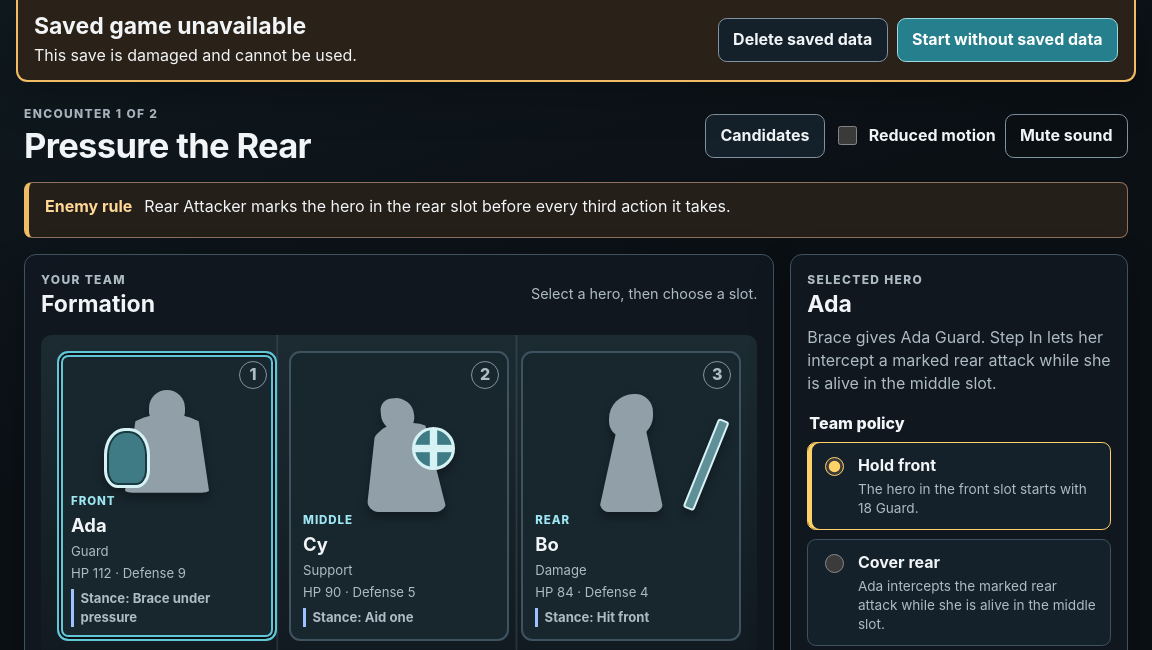
Test: combat lab journey › offers recoverable actions for malformed saved data
The image size is (1152, 650).
Expected: the message shows "This save is damaged", [34,45,357,65]
Click the button "Delete saved data" at x=803, y=40, box [718,18,888,62]
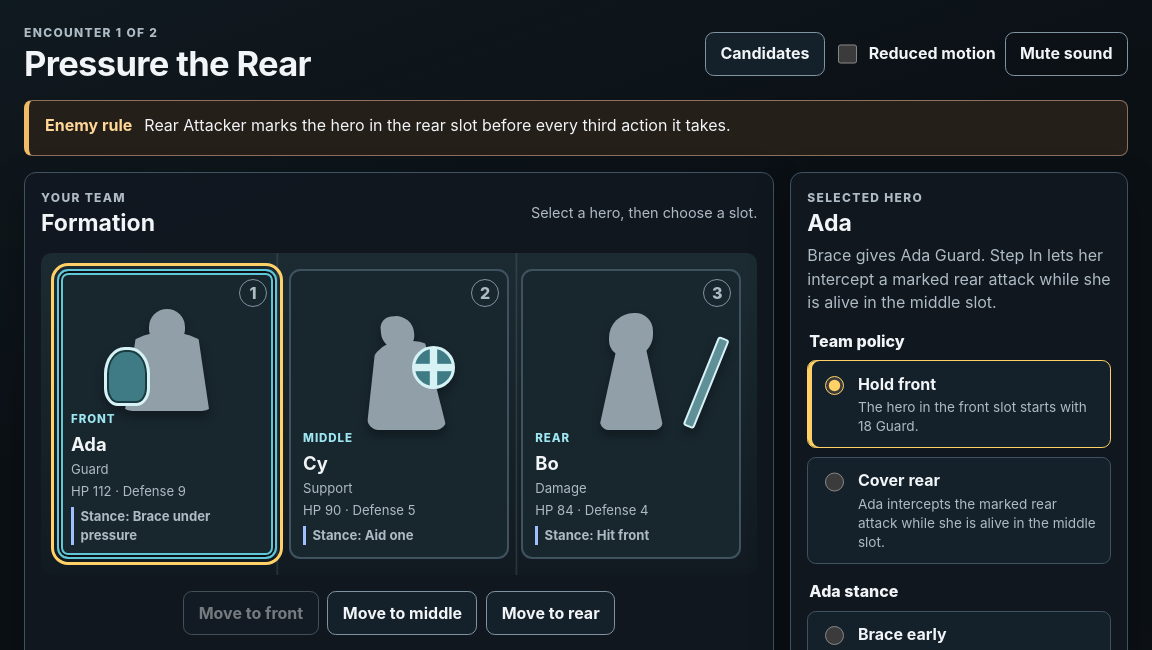
Expected: the heading "Pressure the Rear" is shown, [24,44,311,84]
Expected: the message is gone
